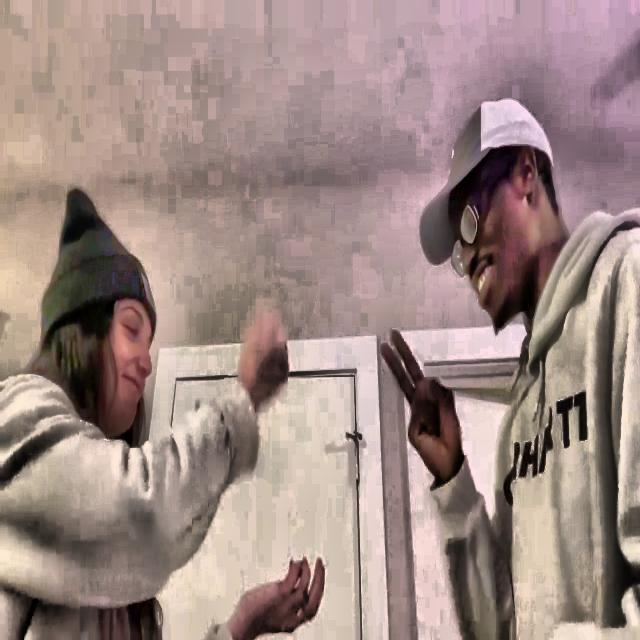not-gloved: (382, 326, 460, 477), (244, 308, 292, 408)
